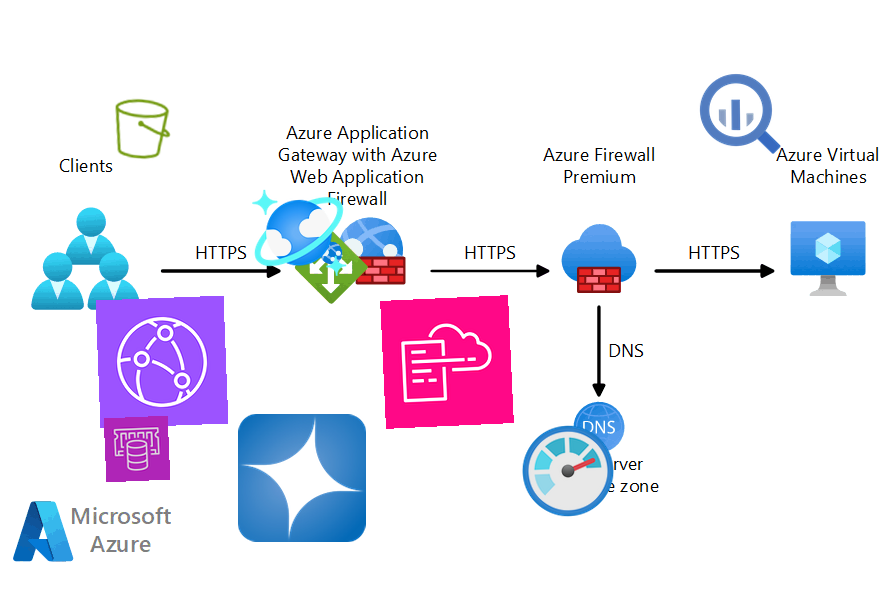aws_amazon_cloudfront: (95, 295, 229, 429)
aws_amazon_elasticache: (103, 415, 171, 483)
aws_cloudformation: (380, 295, 514, 429)
aws_simple_storage_service_bucket: (107, 94, 177, 164)
azure_cosmos_db: (248, 182, 350, 284)
azure_monitor: (518, 421, 618, 521)
azure_openai: (237, 413, 367, 543)
gcp_bigquery: (691, 65, 789, 163)
